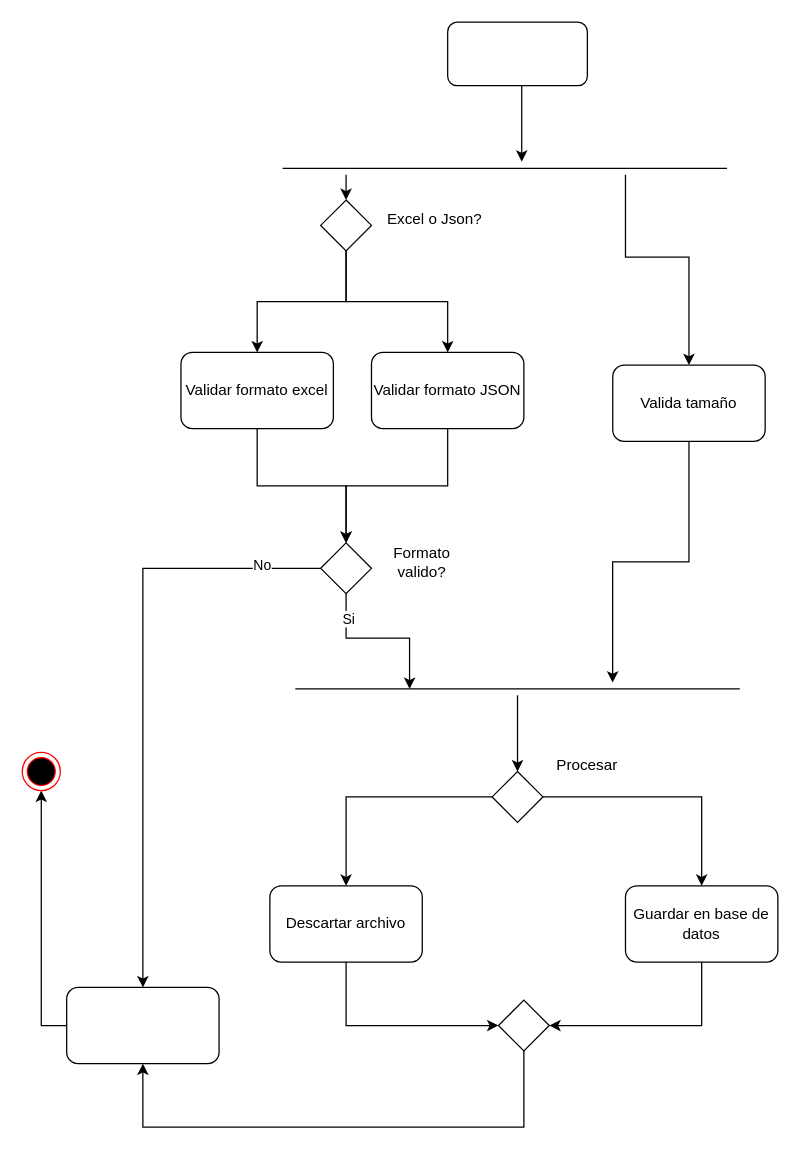
The diagram is 800 pixels wide and 1160 high, and some of its shapes have lost their labels. Here are the shapes that lost their labels. From the top down, the box of each, then its label:
(446, 21, 587, 86): Subiendo archivo
(65, 986, 219, 1064): Notificar al ususario
